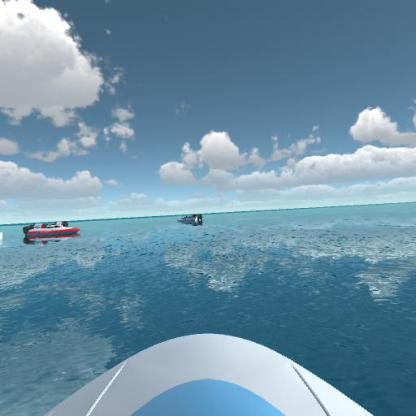usv1: (177, 212, 207, 226)
usv3: (20, 222, 83, 246)
